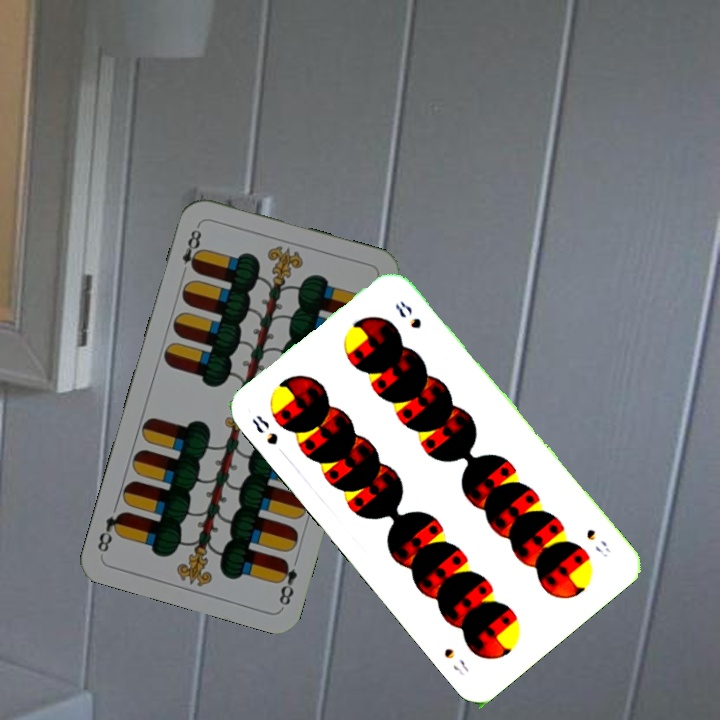E8: (177, 221, 205, 278), (273, 555, 300, 608)
S8: (247, 410, 281, 448), (582, 525, 614, 560)
